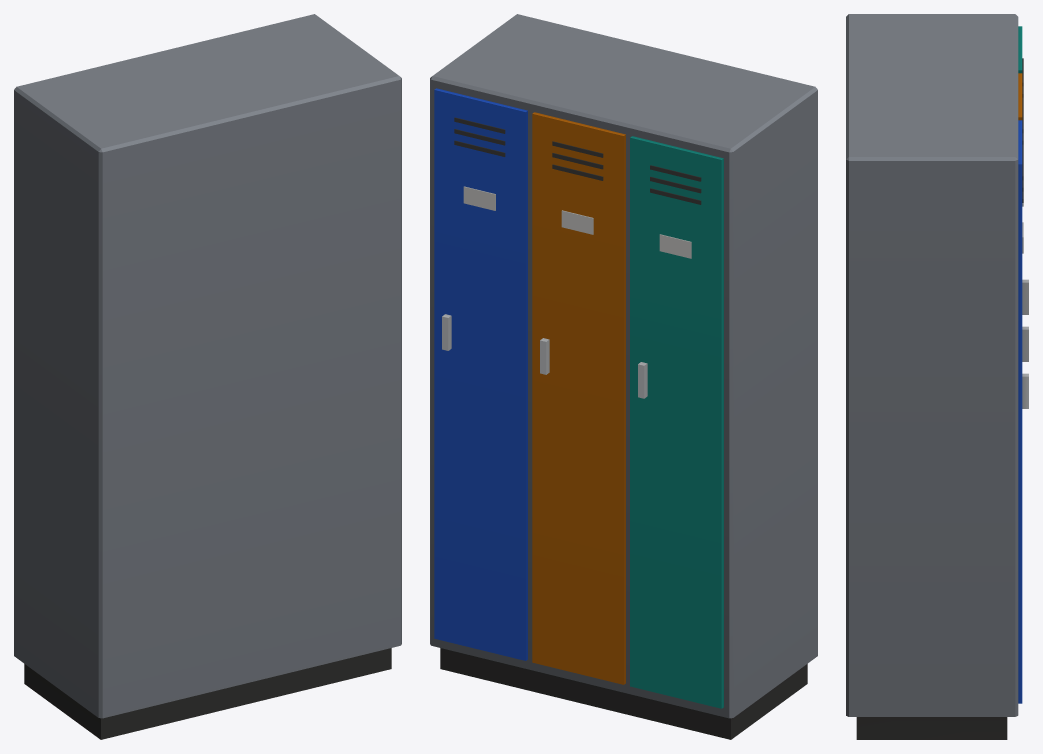
File: locker_01.glb
3 views of the same model, side by side, from view 1: azimuth 30°, elevation 25°; view 2: azimuth 150°, elevation 25°; view 3: azimuth 270°, elevation 25° (orthographic).
Visible parts, largest first — view 1: locker_01_mesh; view 2: locker_01_mesh; view 3: locker_01_mesh.
Part boxes in pixels (x1,y1,x2,y2): locker_01_mesh: [14, 14, 401, 739]; locker_01_mesh: [430, 14, 817, 739]; locker_01_mesh: [846, 14, 1028, 739].
Size of the model in its own units: 0.9601 by 1.8 by 0.5101.
1 material, 1 textured.
